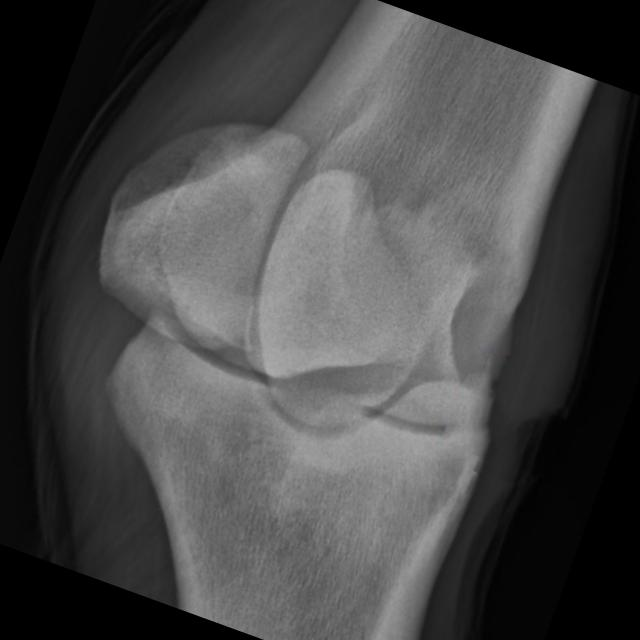bone remodeling: (379, 292, 614, 535)
